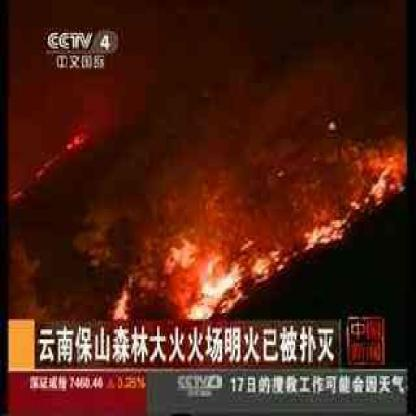fire: (244, 152, 403, 281), (181, 248, 239, 317), (112, 283, 130, 317)
